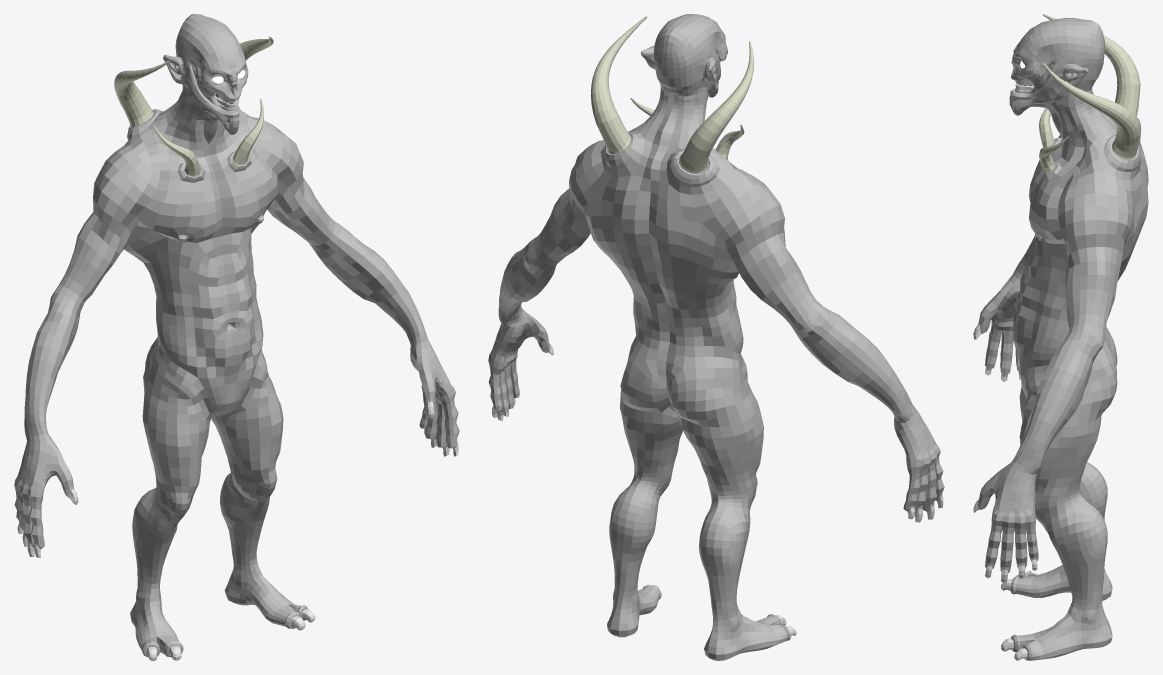
The model's file is special_agent.glb.
3 renders of one model, left to right at view 1: azimuth 30°, elevation 25°; view 2: azimuth 150°, elevation 25°; view 3: azimuth 270°, elevation 25°, orthographic. The views are drawn at different scales.
Parts seen in each view (by area): view 1: Object_2, Object_3, Object_5; view 2: Object_2, Object_3; view 3: Object_2, Object_3, Object_5.
Part boxes in pixels (x1,y1,x2,y2): Object_2: [14, 14, 459, 657]; Object_3: [114, 36, 273, 176]; Object_5: [17, 402, 458, 660]; Object_2: [488, 14, 944, 660]; Object_3: [590, 16, 753, 173]; Object_2: [978, 17, 1148, 660]; Object_3: [1039, 14, 1140, 173]; Object_5: [973, 324, 1037, 660].
Bounding box in the file's own units: 5.77 × 7.71 × 2.03.
